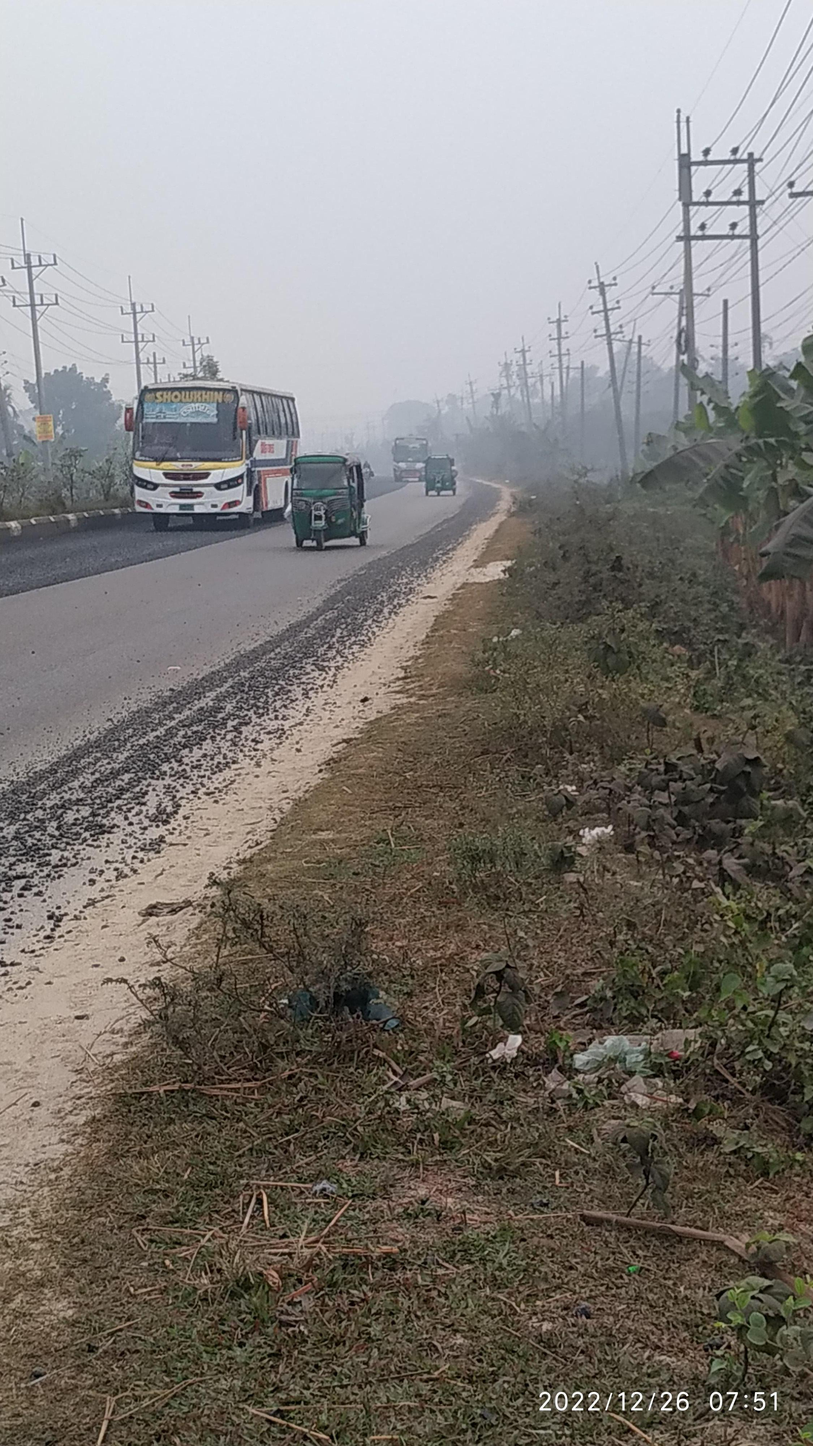Bus: (96, 357, 311, 547), (385, 428, 438, 497)
